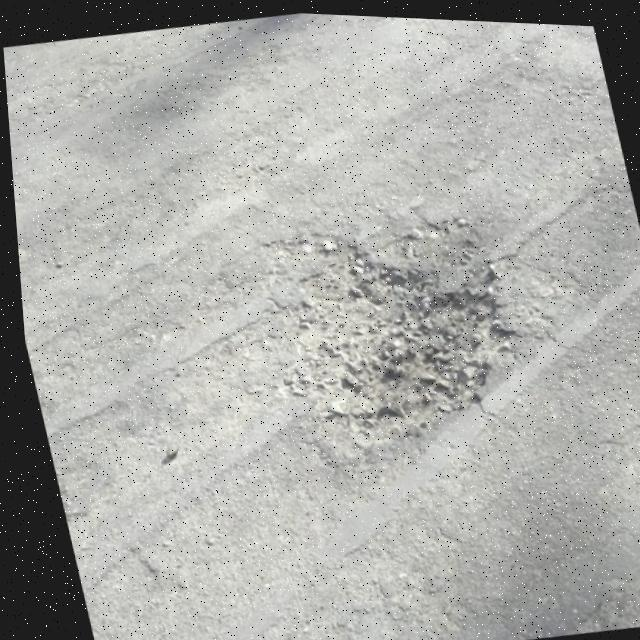Pothole: (253, 201, 529, 457)
